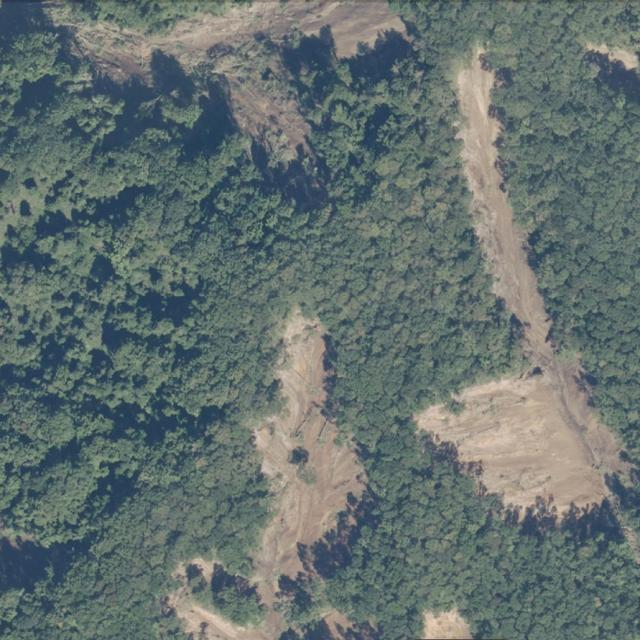landslide: (418, 48, 626, 517), (169, 311, 366, 640), (70, 1, 406, 146)
